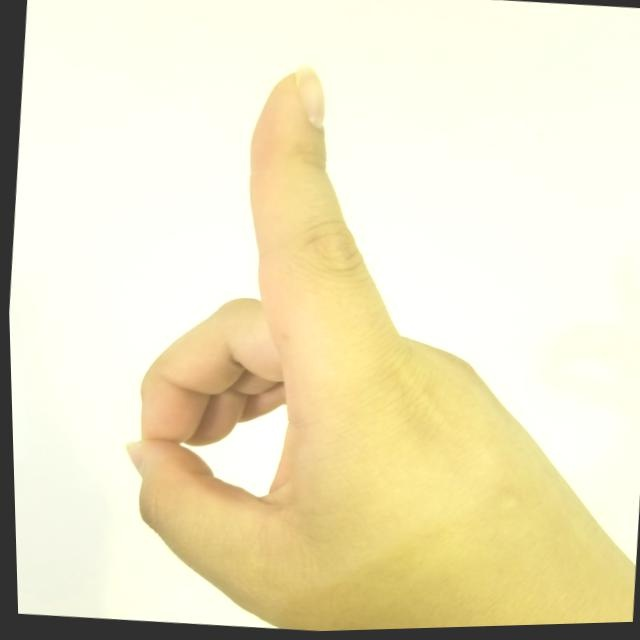D: (87, 38, 639, 637)
